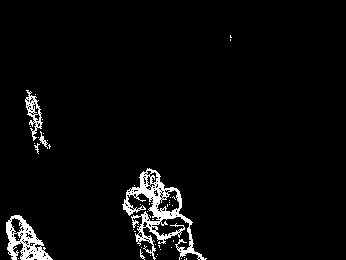person: (150, 186, 206, 260), (123, 167, 167, 260), (24, 90, 51, 155)
